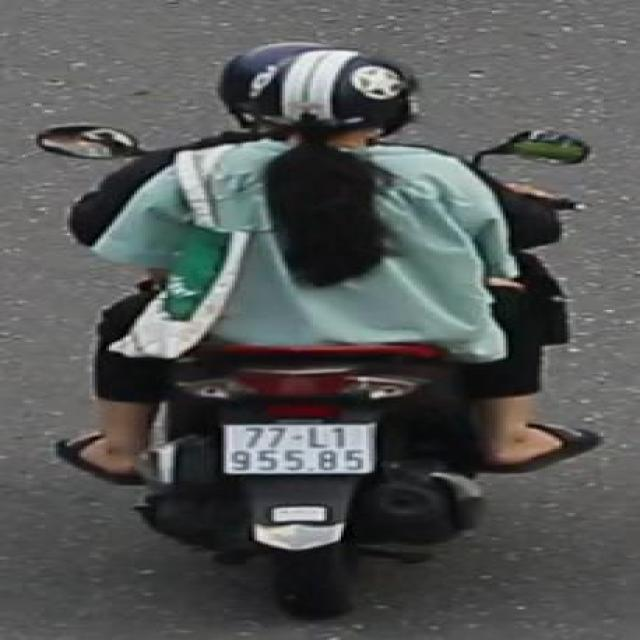LP: (215, 414, 383, 478)
helmet: (234, 46, 426, 144)
